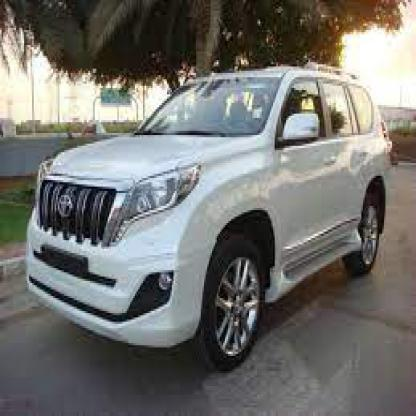jeep: (26, 58, 388, 371)
